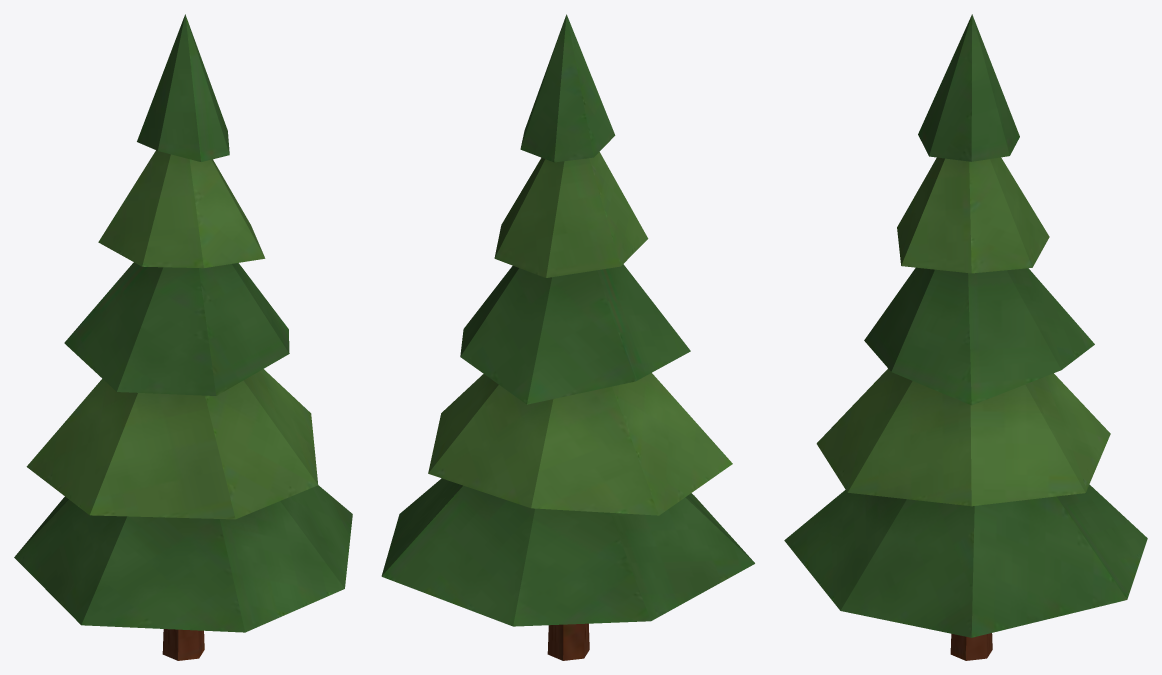
Rendered from bg_tree_pine_idle.glb.
The picture shows the model from 3 angles, left to right: view 1: azimuth 30°, elevation 25°; view 2: azimuth 150°, elevation 25°; view 3: azimuth 270°, elevation 25°; orthographic projection.
Visible parts, largest first — view 1: bg_tree_pine; view 2: bg_tree_pine; view 3: bg_tree_pine.
Boxes of the visible parts, bbox=[...] form: bg_tree_pine: bbox=[14, 14, 352, 660]; bg_tree_pine: bbox=[381, 14, 754, 660]; bg_tree_pine: bbox=[784, 14, 1147, 660].
Size of the model in its own units: 3 by 5.82 by 3.
1 material, 1 textured.
